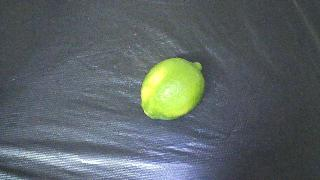LOCAL: (141, 58, 205, 120)
